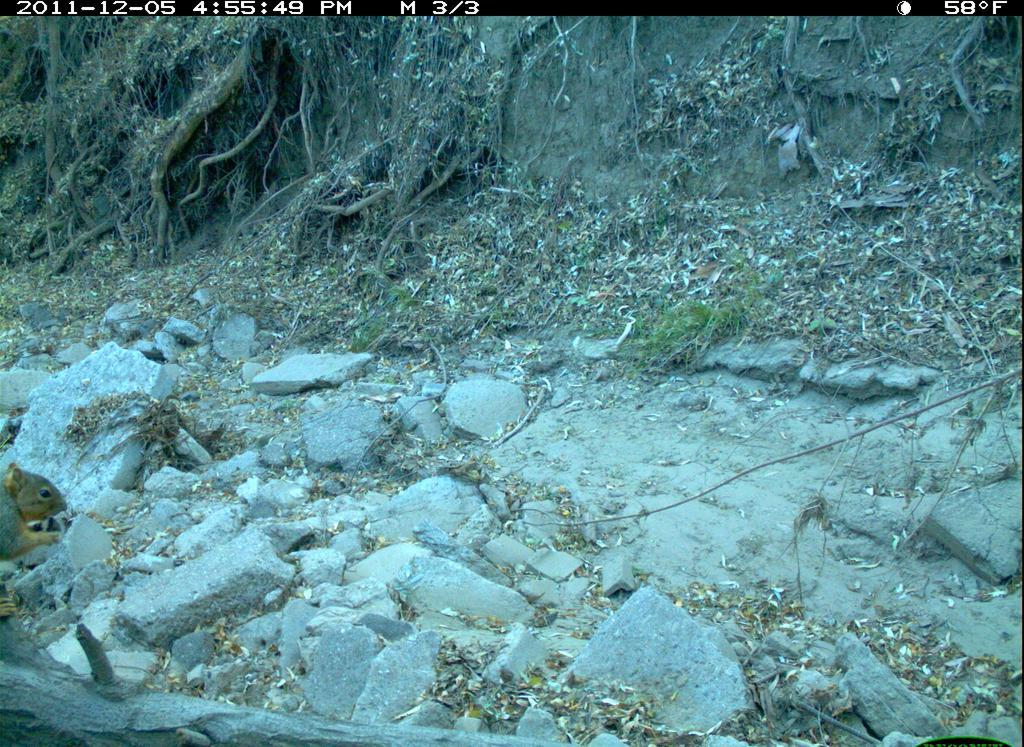squirrel: (2, 457, 79, 573)
